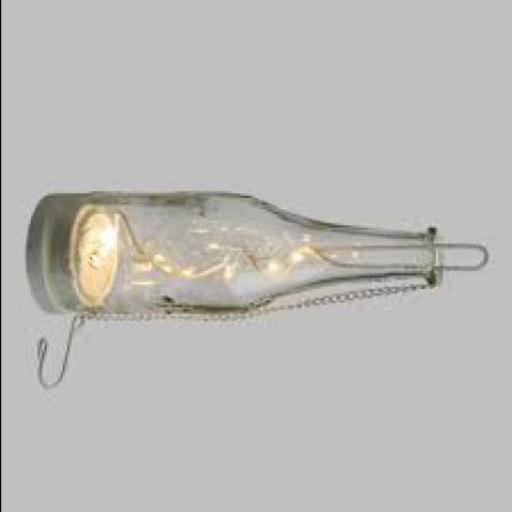glass: (28, 191, 444, 312)
